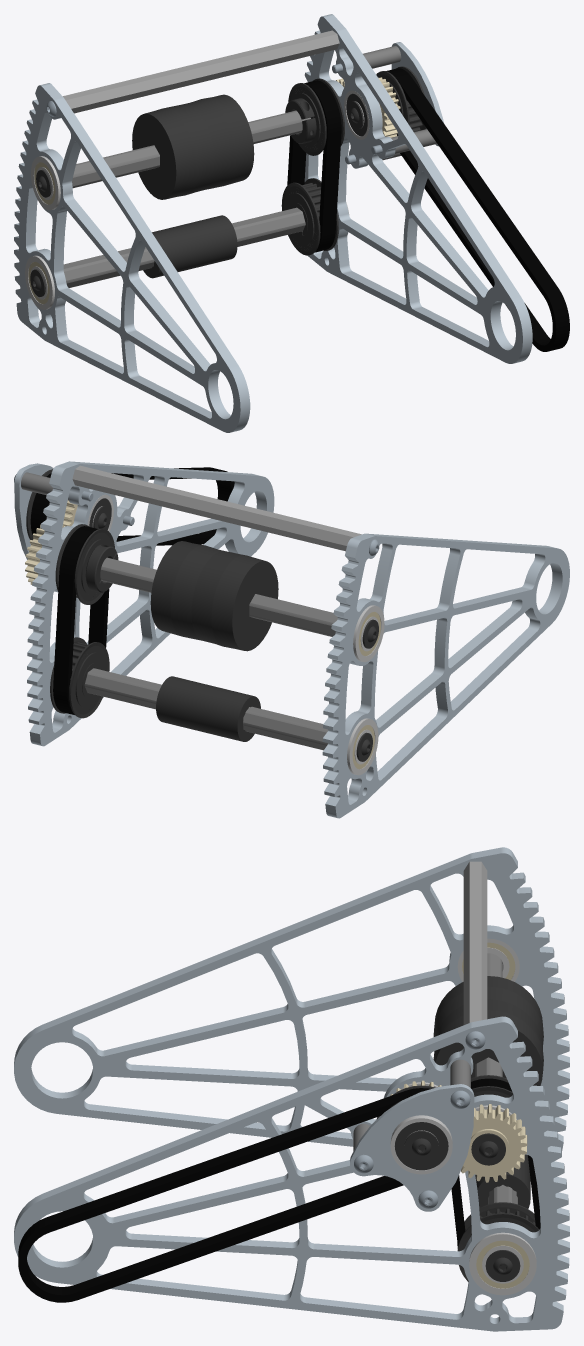
3 views of the same model, one above another, from view 1: azimuth 30°, elevation 25°; view 2: azimuth 150°, elevation 25°; view 3: azimuth 270°, elevation 25° (orthographic). The views are drawn at different scales.
Size of the model in its own units: 0.2346 by 0.157 by 0.2559.
